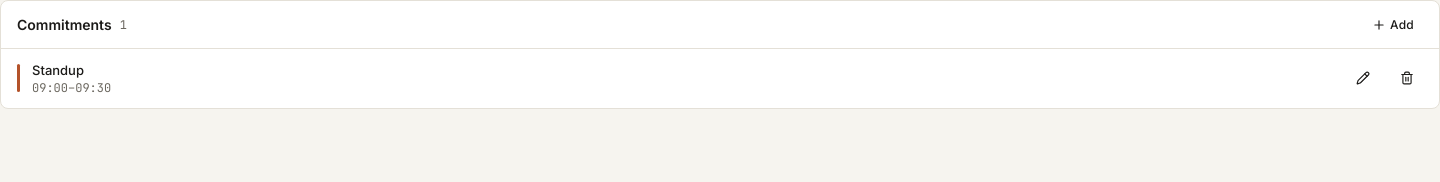
Test: CommitmentsPanel › deletes only after an inline confirmation and returns focus on cancel
Later steps or results of the test are not shown.
Click the button named "Delete Standup" at (1407, 78), box [1391, 62, 1423, 94]
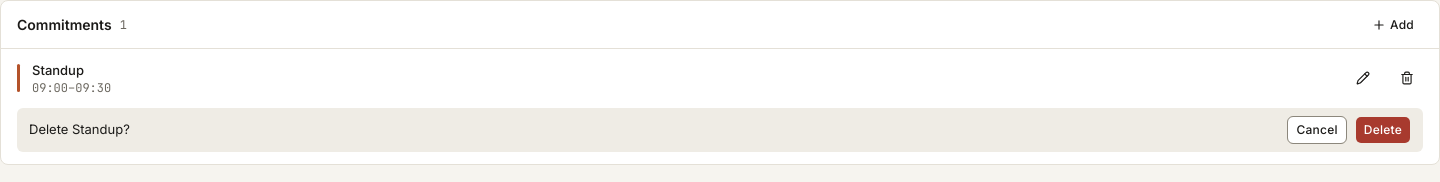
Expected: the text "Delete Standup?" is shown, [29, 120, 130, 139]
Click the button "Cancel" at (1317, 130), box [1288, 116, 1347, 144]
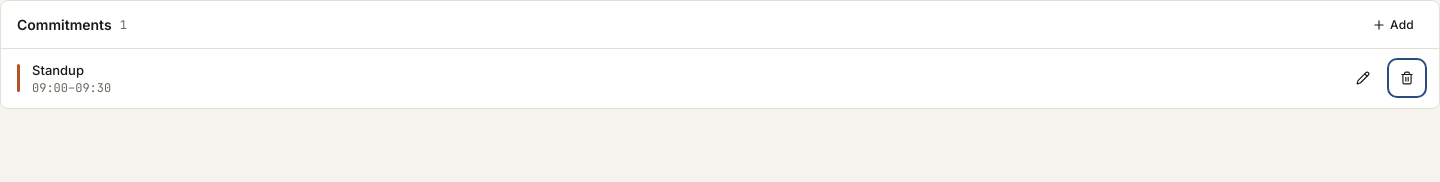
Expected: the text "Delete Standup?" is gone
